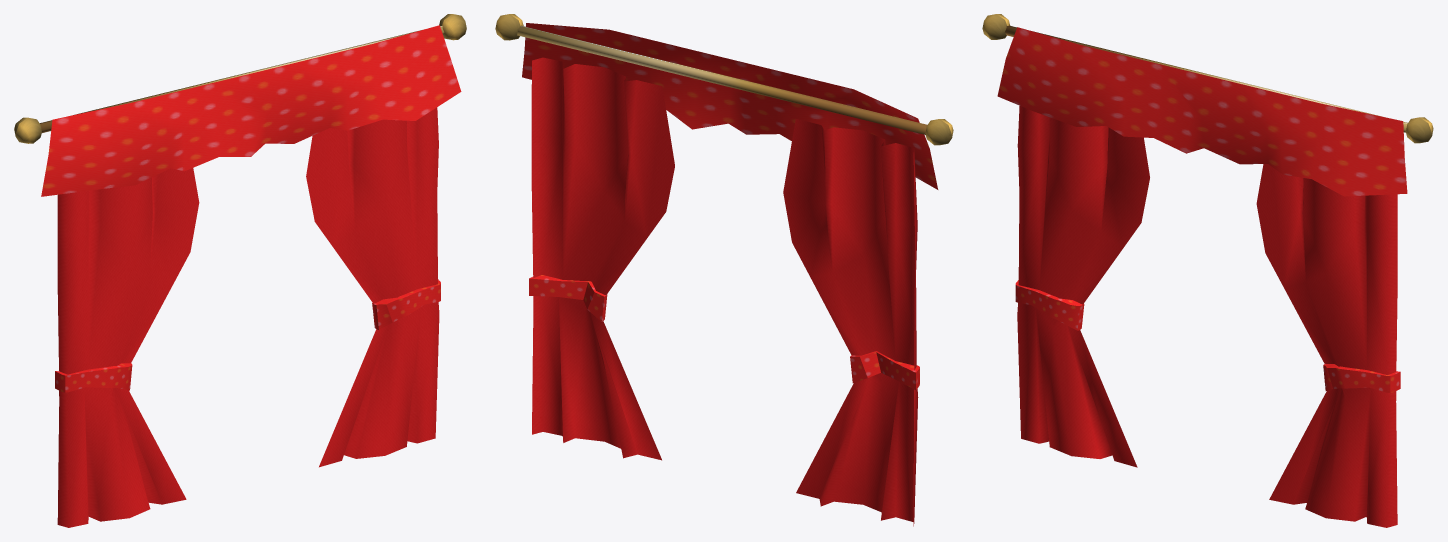
The model's file is Curtains_01_H.FBX.
3 renders of one model, left to right at view 1: azimuth 30°, elevation 25°; view 2: azimuth 150°, elevation 25°; view 3: azimuth 330°, elevation 25°, orthographic.
Visible parts, largest first — view 1: Curtains_01; view 2: Curtains_01; view 3: Curtains_01.
Boxes of the visible parts, box(x1,y1,x2,y2) form: Curtains_01: box(14, 14, 466, 527); Curtains_01: box(495, 14, 953, 526); Curtains_01: box(982, 14, 1433, 527).
Size of the model in its own units: 251 by 221 by 25.59.
